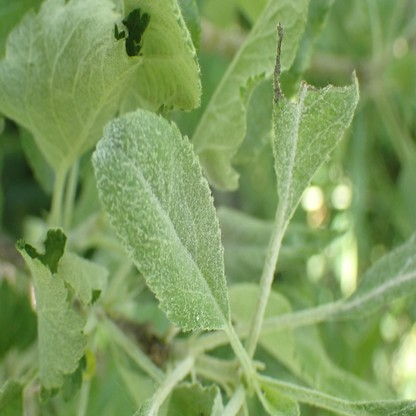powder: (91, 108, 231, 330), (274, 70, 360, 215)
